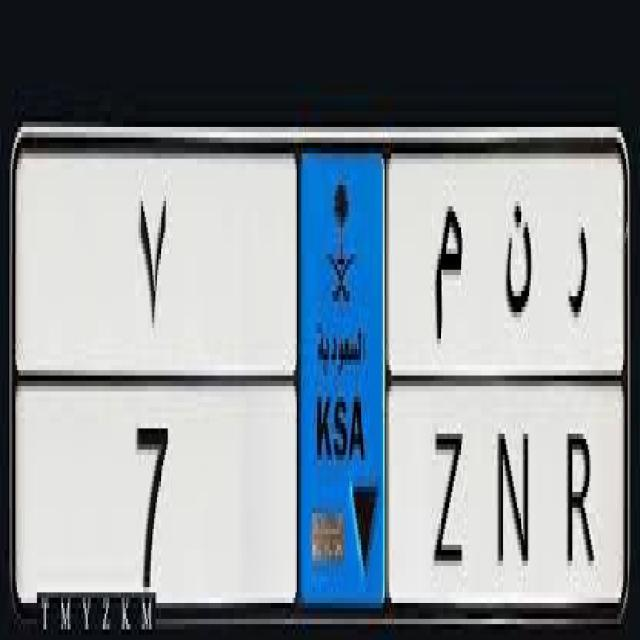license_plate: (120, 401, 600, 588)
